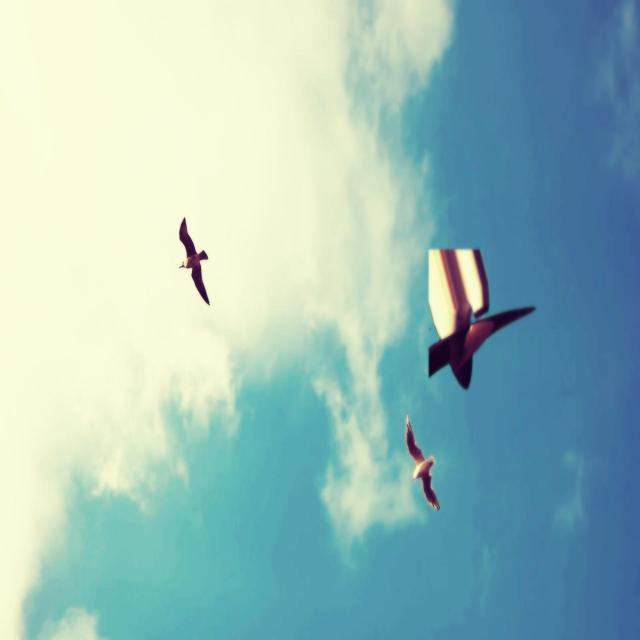airplane: (427, 246, 536, 390)
